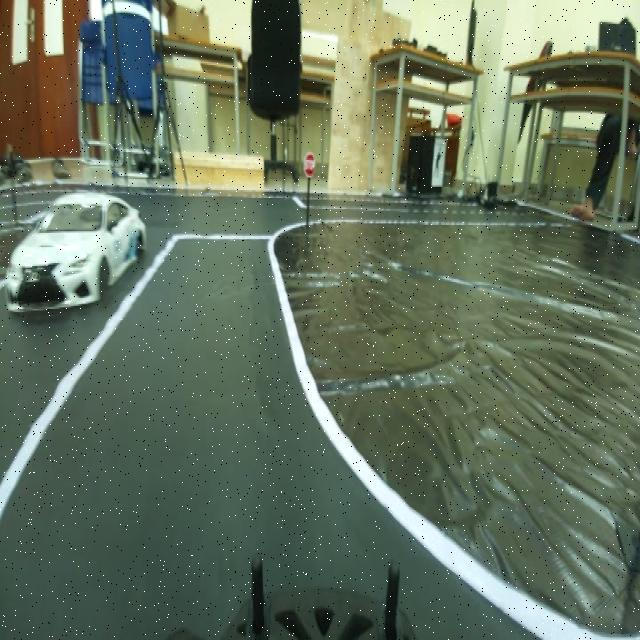car: (10, 183, 149, 314)
stop: (298, 142, 317, 180)
